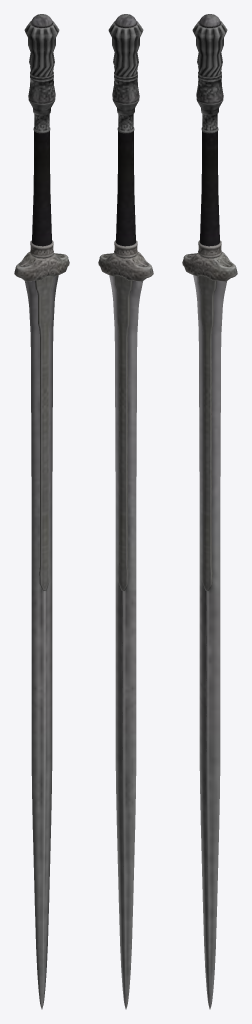
Rendered from weapon-wp_a_1680.glb.
The picture shows the model from 3 angles, left to right: view 1: azimuth 30°, elevation 25°; view 2: azimuth 150°, elevation 25°; view 3: azimuth 330°, elevation 25°; orthographic projection.
Visible parts, largest first — view 1: wp_a_1680_mesh; view 2: wp_a_1680_mesh; view 3: wp_a_1680_mesh.
Boxes of the visible parts, left/top/right/bottom form: wp_a_1680_mesh: left=14, top=14, right=69, bottom=1009; wp_a_1680_mesh: left=98, top=14, right=153, bottom=1009; wp_a_1680_mesh: left=182, top=14, right=237, bottom=1009.
Size of the model in its own units: 0.0883 by 1.58 by 0.0502.
Materials: 1 (1 with a texture image).
